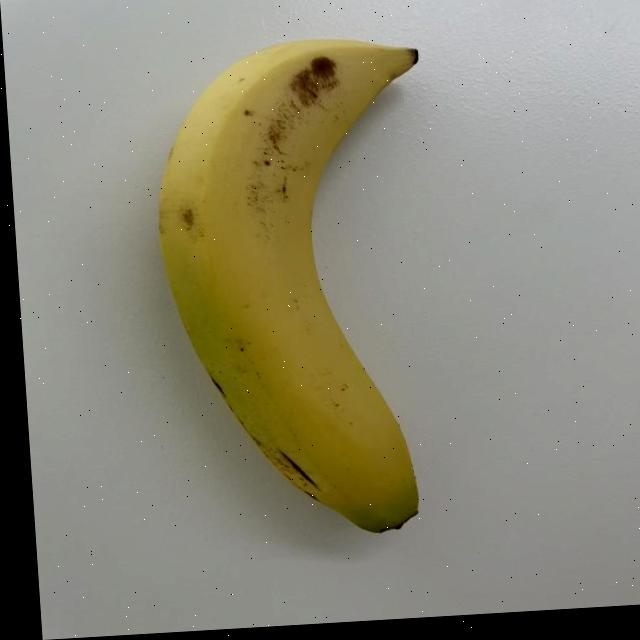banana: (137, 24, 468, 559)
